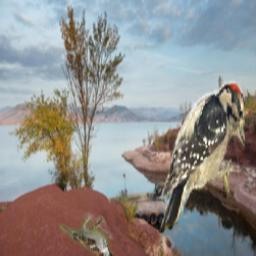Sparrow: (59, 213, 114, 256)
Woodpecker: (153, 79, 246, 234)
